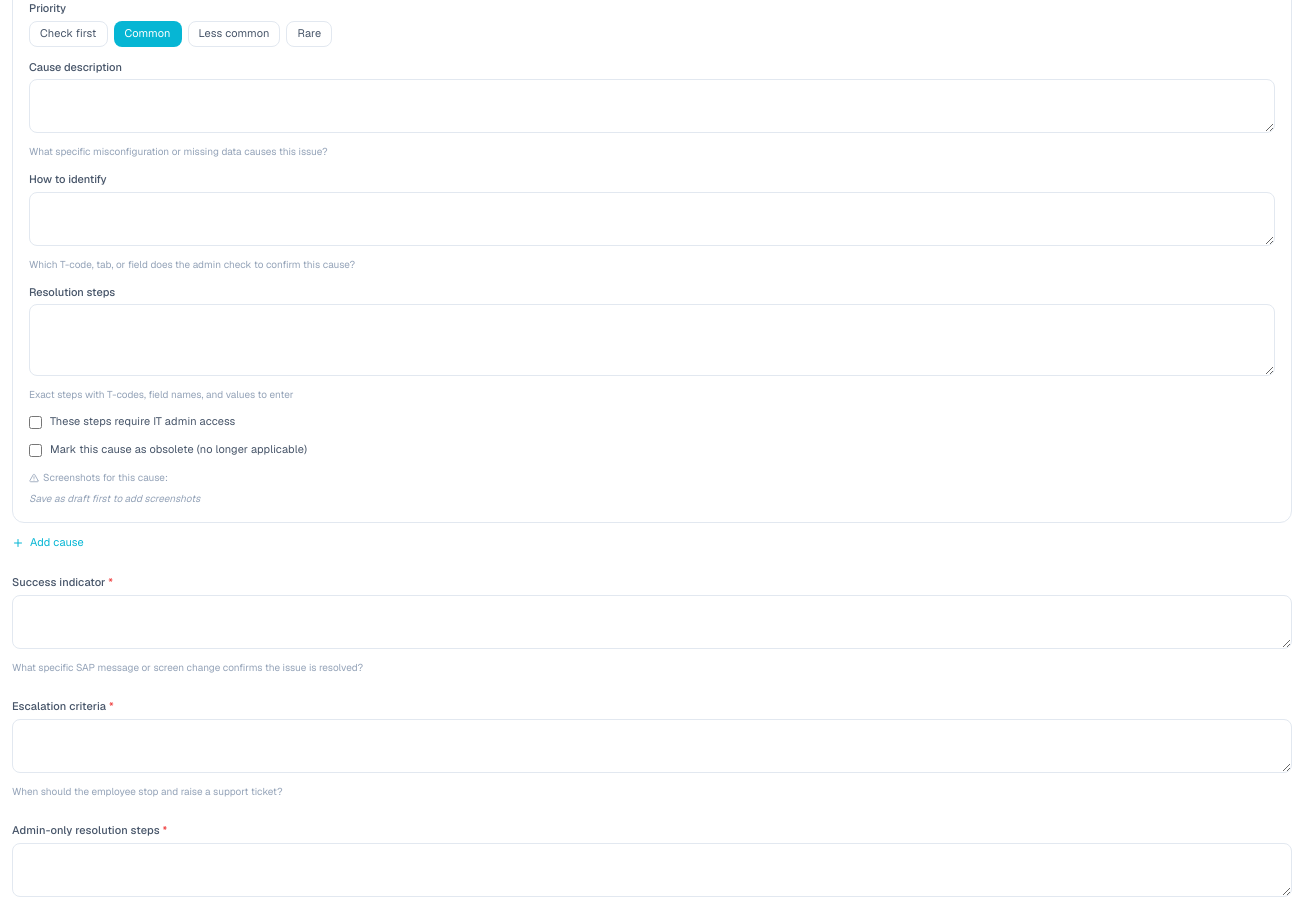
Test: ErrorGuideFormFields › shows the obsolete-reason field only once a cause is marked obsolete
(page scrolled)
Expected: the text "Obsolete reason" is not shown
Click the text "Mark this cause as obsolete (no longer applicable)" at (168, 450), box [29,442,307,457]
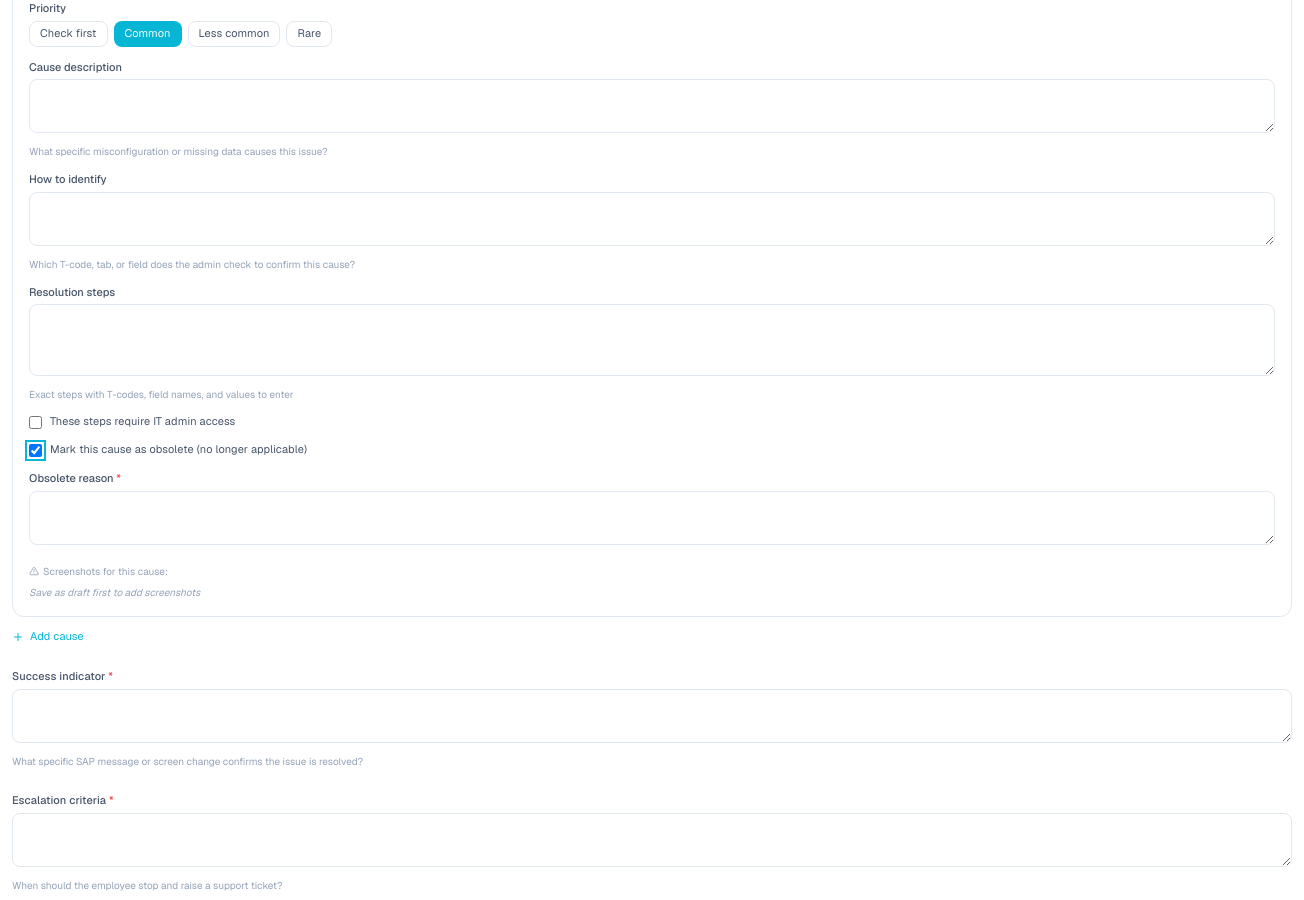
Now the text "Obsolete reason" is shown, box [29,471,114,485]
